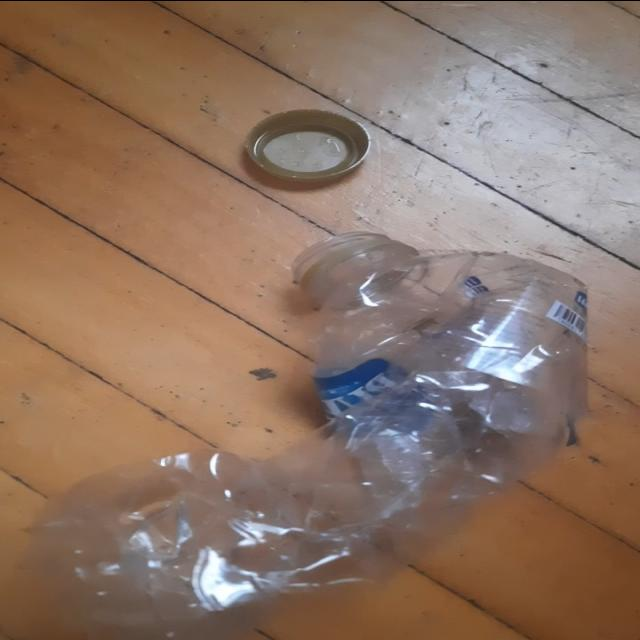Plastic: (16, 242, 590, 636)
